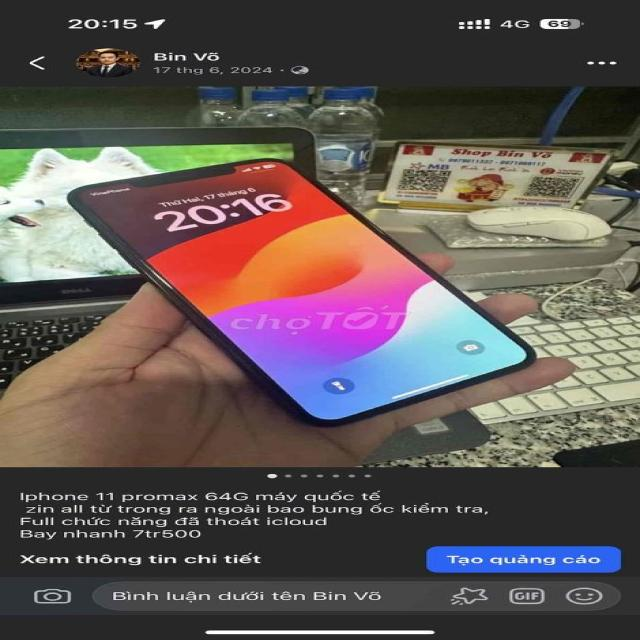gen_11: (64, 152, 542, 424)
